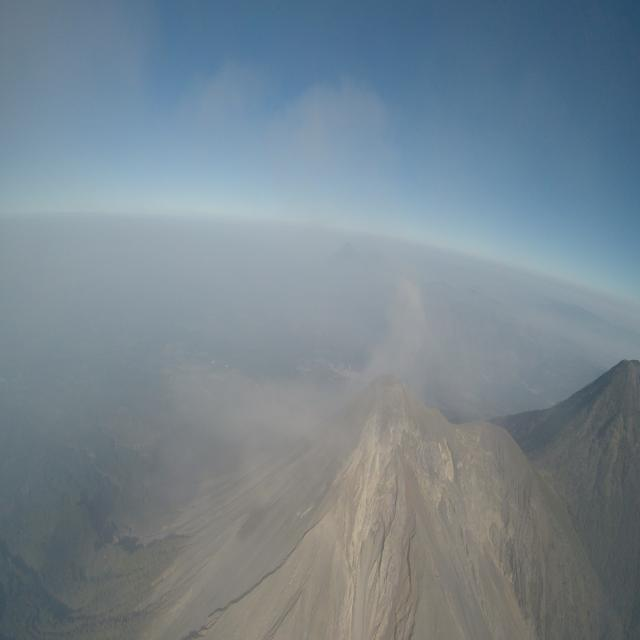Summit: (326, 370, 454, 464)
